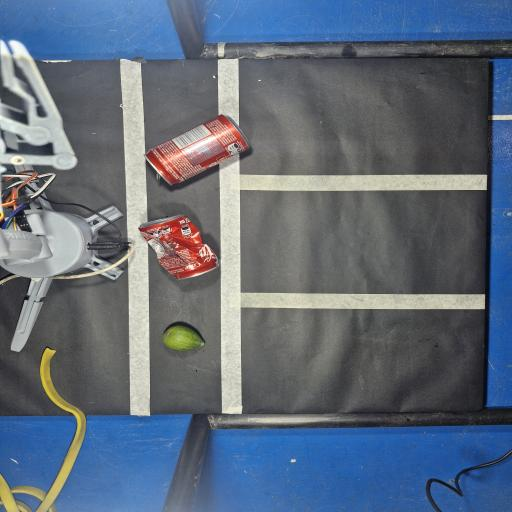higo: (163, 325, 204, 351)
lata: (146, 115, 248, 184)
lata_defectuoso: (139, 216, 218, 279)
